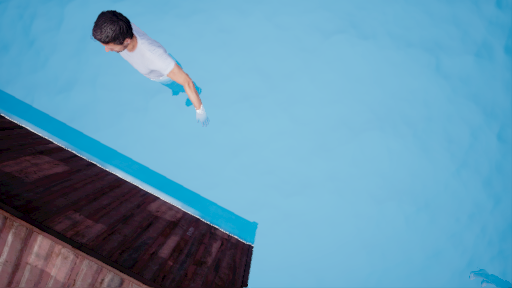person: (90, 10, 222, 131)
